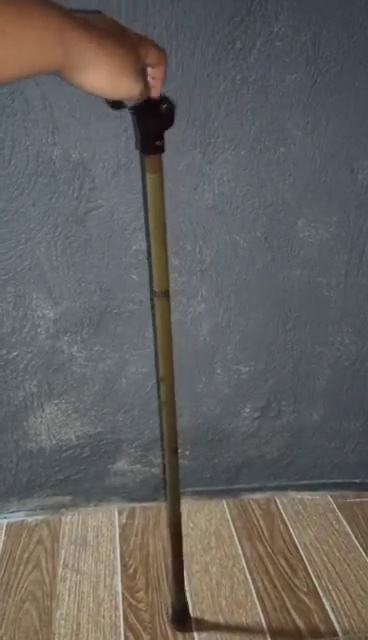cane: (105, 94, 195, 629)
hand: (1, 1, 168, 111)
